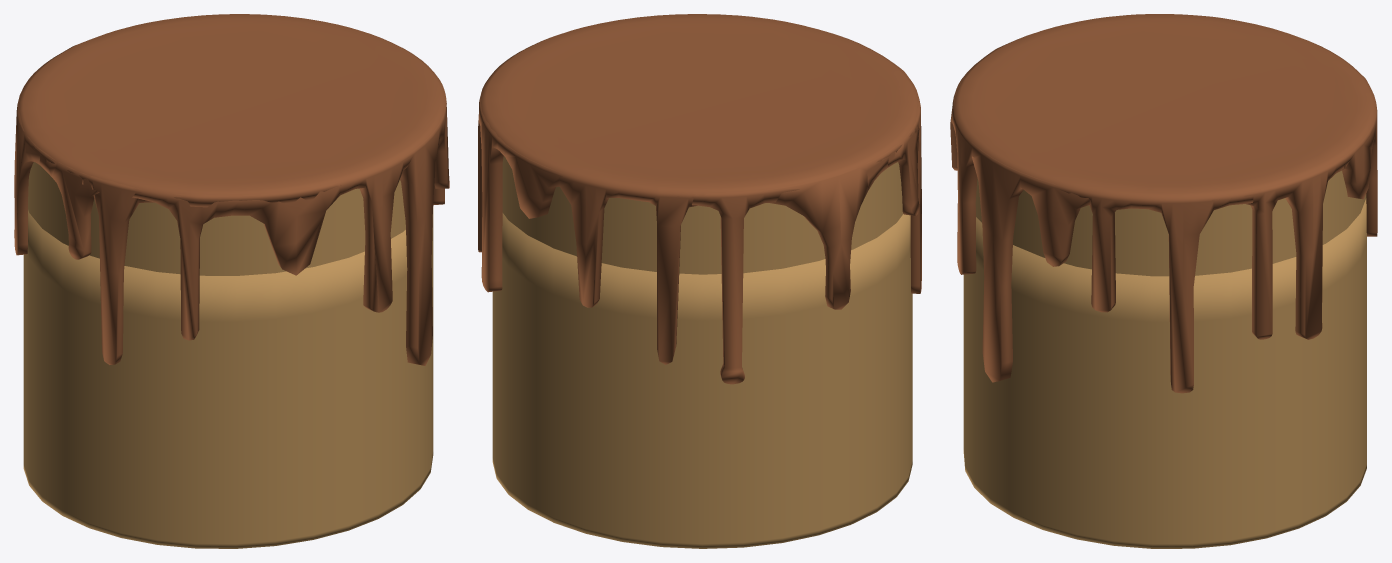
File: 1-tier-caramel-ganache-none.glb
3 renders of one model, left to right at view 1: azimuth 30°, elevation 25°; view 2: azimuth 150°, elevation 25°; view 3: azimuth 270°, elevation 25°, orthographic.
Visible parts, largest first — view 1: Cylinder.019, tHE ICING; view 2: Cylinder.019, tHE ICING; view 3: Cylinder.019, tHE ICING.
Boxes of the visible parts, x1,y1,x2,y2 form: Cylinder.019: (23, 162, 433, 548); tHE ICING: (14, 14, 449, 365); Cylinder.019: (492, 156, 912, 548); tHE ICING: (478, 14, 921, 384); Cylinder.019: (963, 170, 1366, 548); tHE ICING: (950, 14, 1377, 393).
Size of the model in its own units: 2.8 by 2.52 by 2.71.
